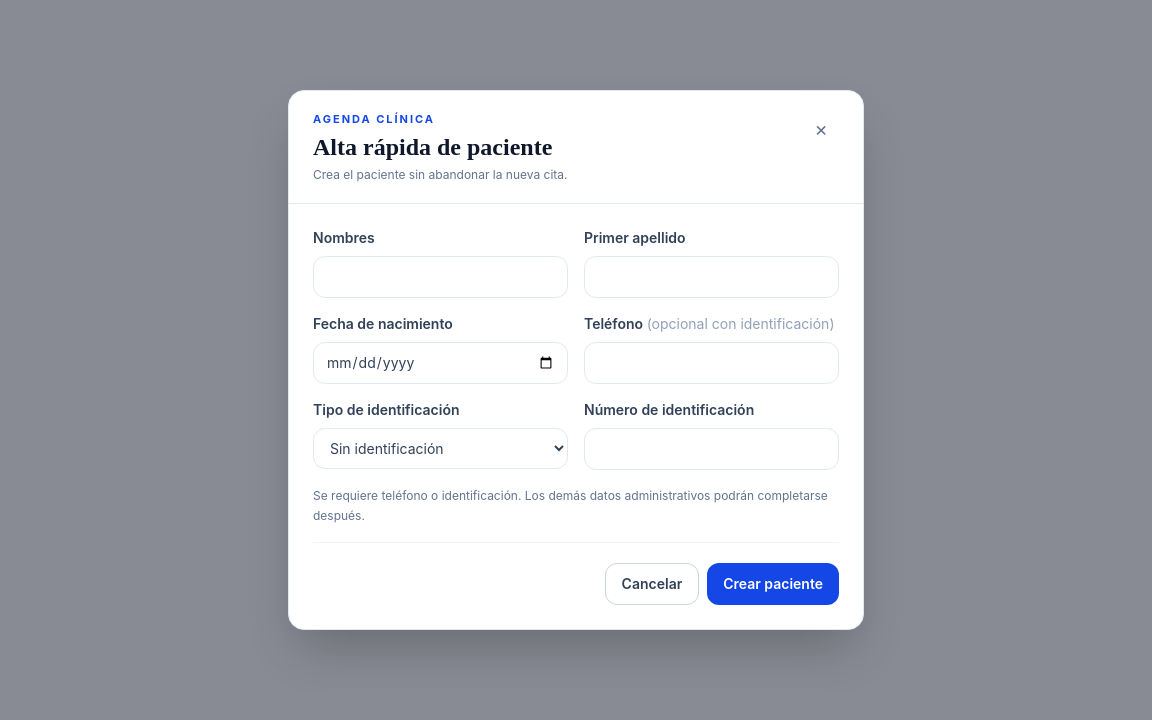
PatientQuickCreateDialog › rejects a form without phone or identification before duplicate-check
In the field labelled "Nombres": (440, 277) [313,256,568,298], type "Ana"
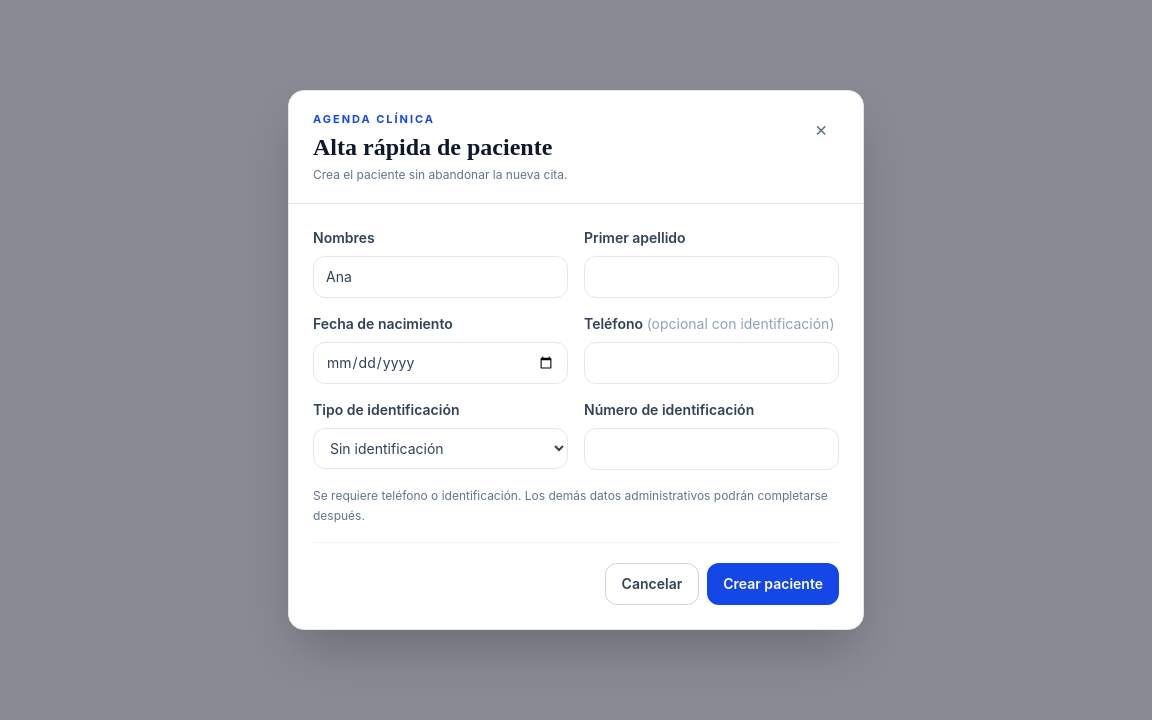
In the field labelled "Primer apellido": (712, 277) [584,256,839,298], type "López"
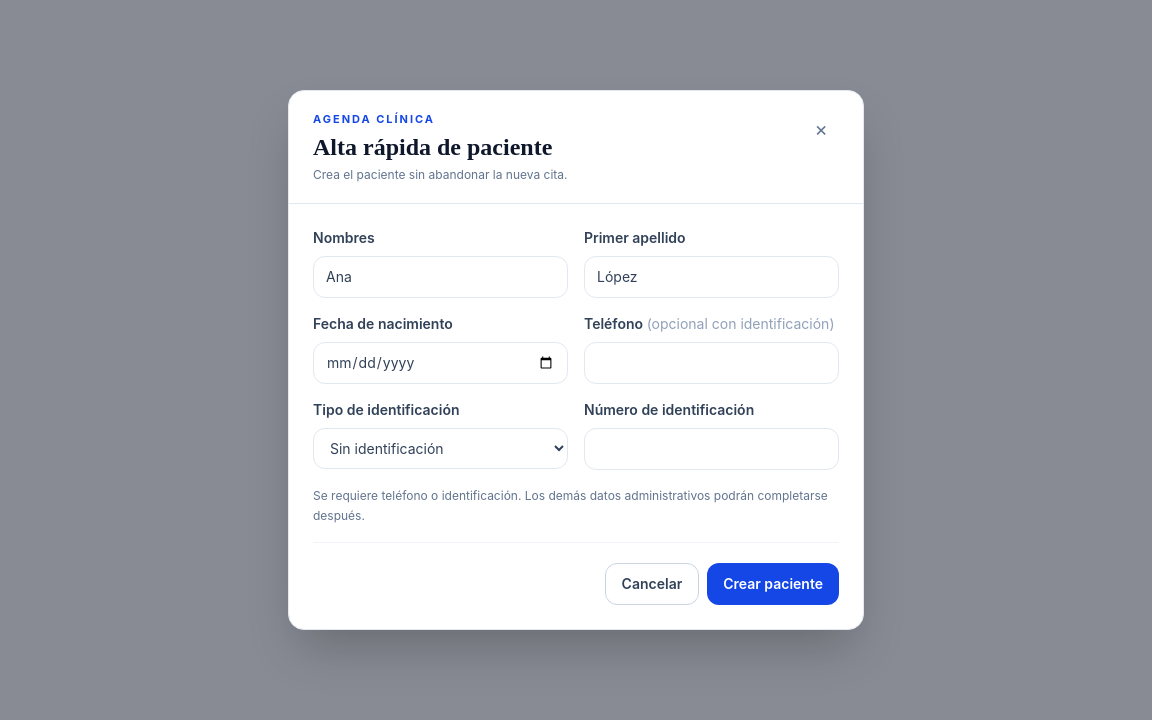
In the date field labelled "Fecha de nacimiento": (440, 363) [313,342,568,384], type "1990-05-10"
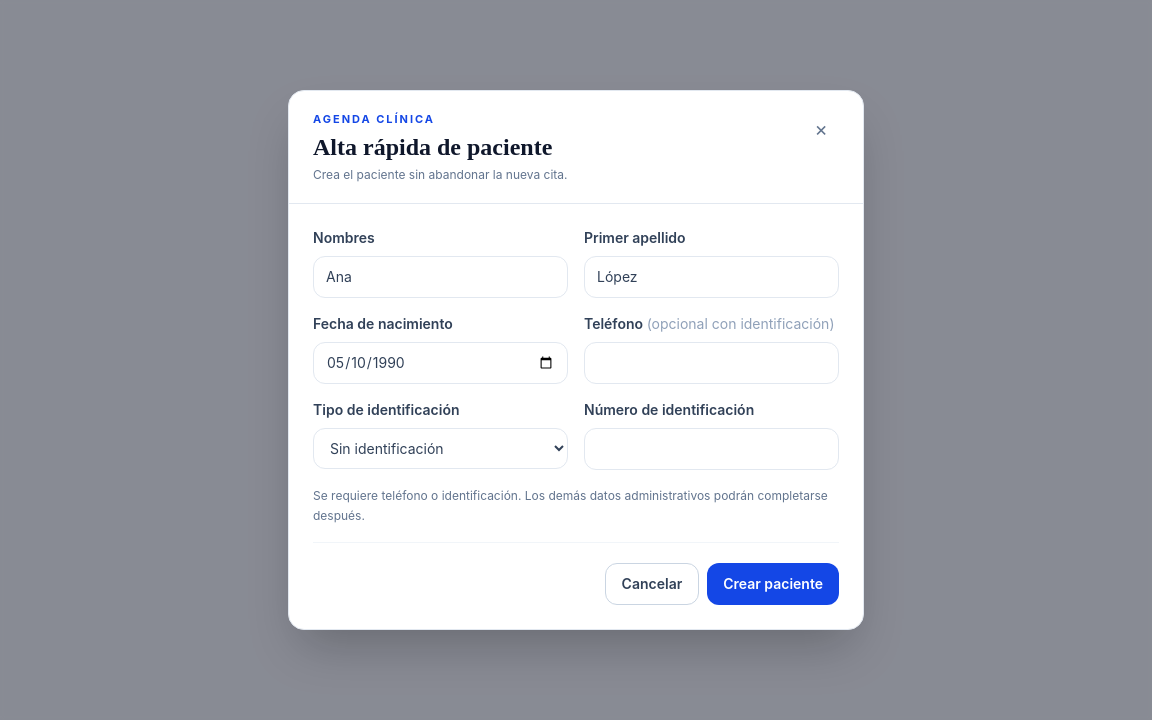
Click the button "Crear paciente": (773, 584) [707,563,839,605]
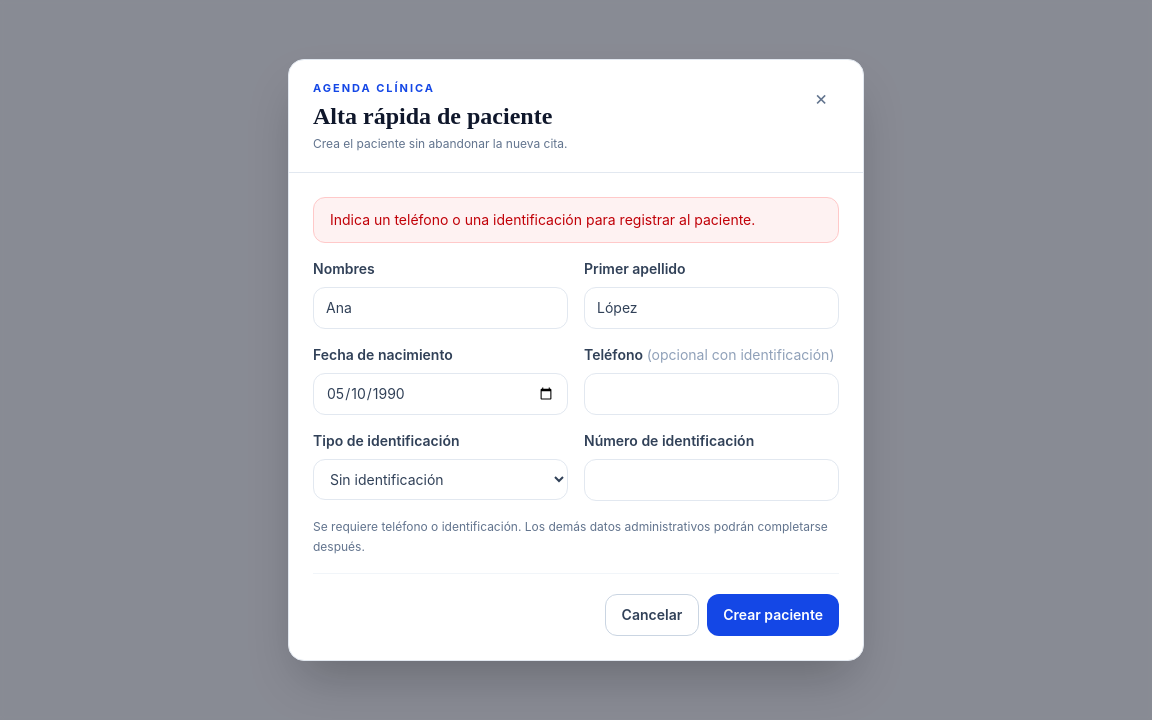
Now the message shows "teléfono o una identificación", box [330,211,755,228]
